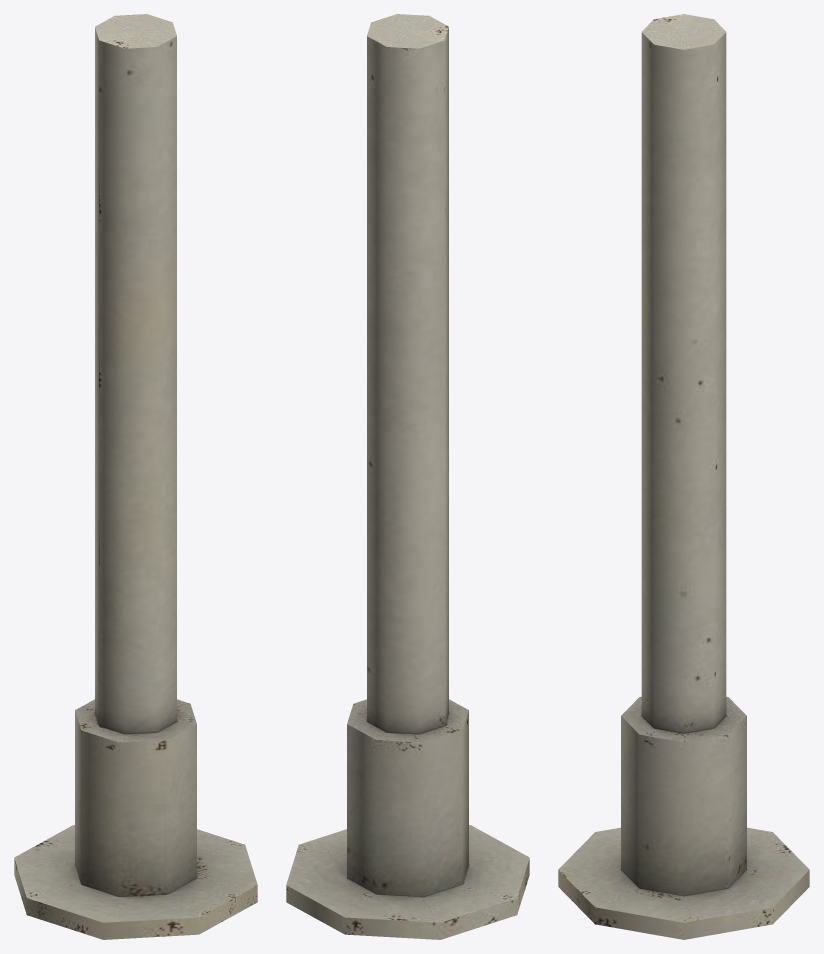
File: pipe_floor_pass_lod1_web.glb
The picture shows the model from 3 angles, left to right: view 1: azimuth 30°, elevation 25°; view 2: azimuth 150°, elevation 25°; view 3: azimuth 270°, elevation 25°; orthographic projection.
Visible parts, largest first — view 1: PipeFloorPass_Body; view 2: PipeFloorPass_Body; view 3: PipeFloorPass_Body.
Boxes of the visible parts, <box> form: PipeFloorPass_Body: <box>14,14,257,939</box>; PipeFloorPass_Body: <box>286,14,529,939</box>; PipeFloorPass_Body: <box>558,14,809,939</box>.
Size of the model in its own units: 0.08 by 0.3 by 0.08.
Materials: 1 (1 with a texture image).
